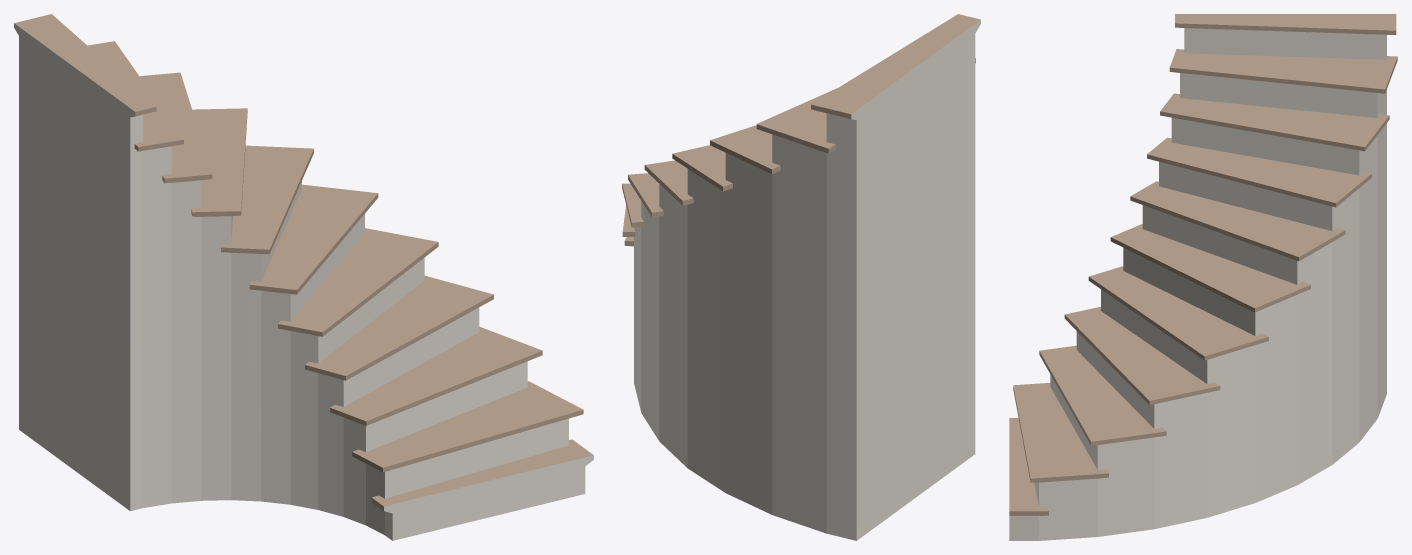
Rendered from Structure_Stairs_Curved.fbx.
3 views of the same model, side by side, from view 1: azimuth 30°, elevation 25°; view 2: azimuth 150°, elevation 25°; view 3: azimuth 270°, elevation 25° (orthographic). The views are drawn at different scales.
Parts seen in each view (by area): view 1: object1.101; view 2: object1.101; view 3: object1.101.
Part boxes in pixels (x1,y1,x2,y2): object1.101: (14,14,593,540); object1.101: (622,14,980,540); object1.101: (1009,14,1397,540).
Bounding box in the file's own units: 211 × 220 × 211.
